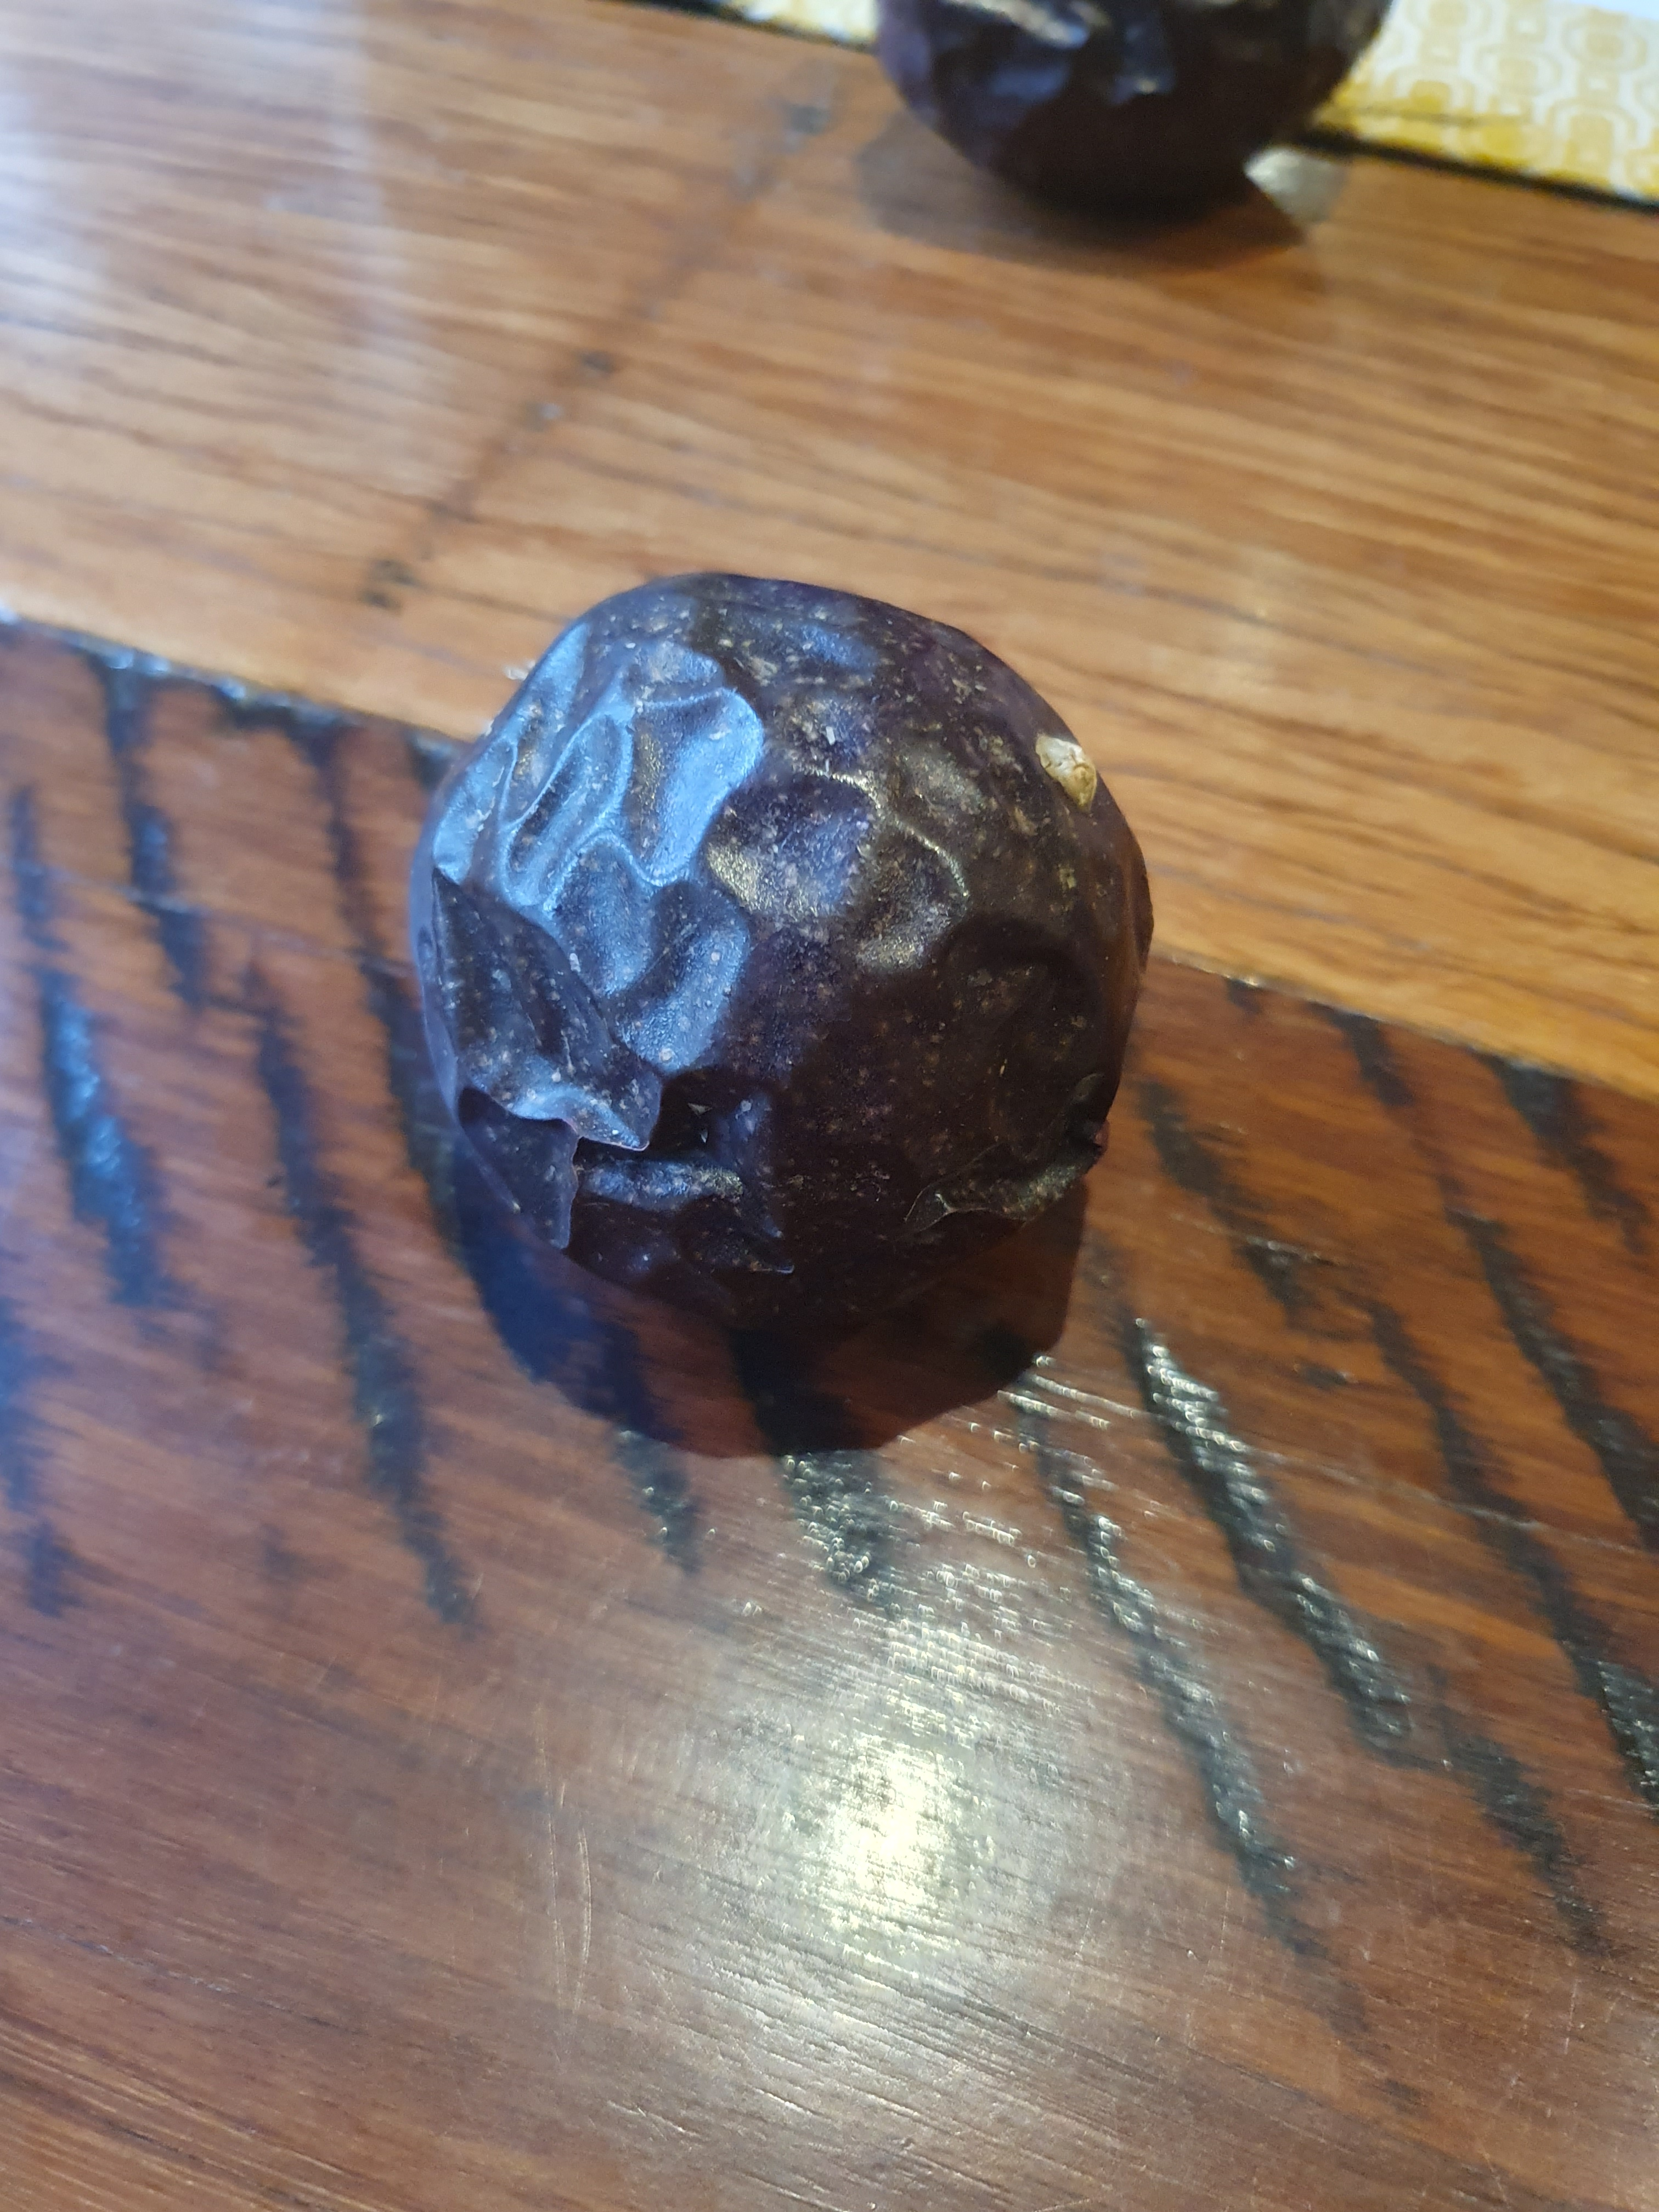passionfruit: (356, 547, 1173, 1327)
